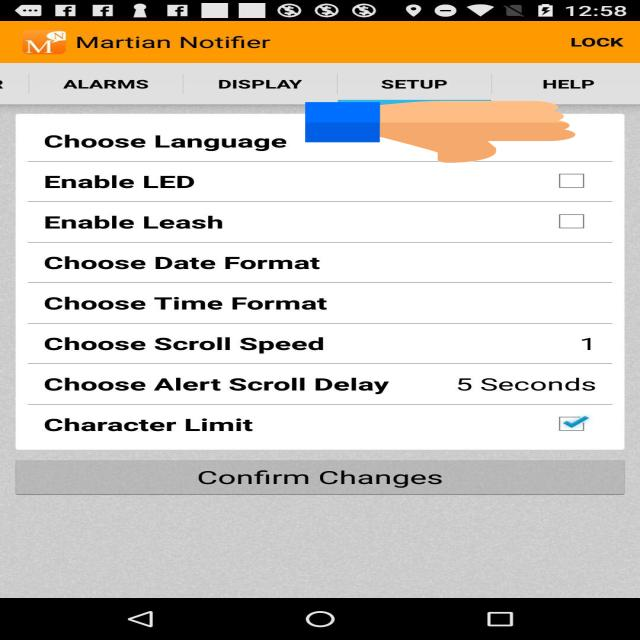obstruction: (306, 100, 576, 164)
